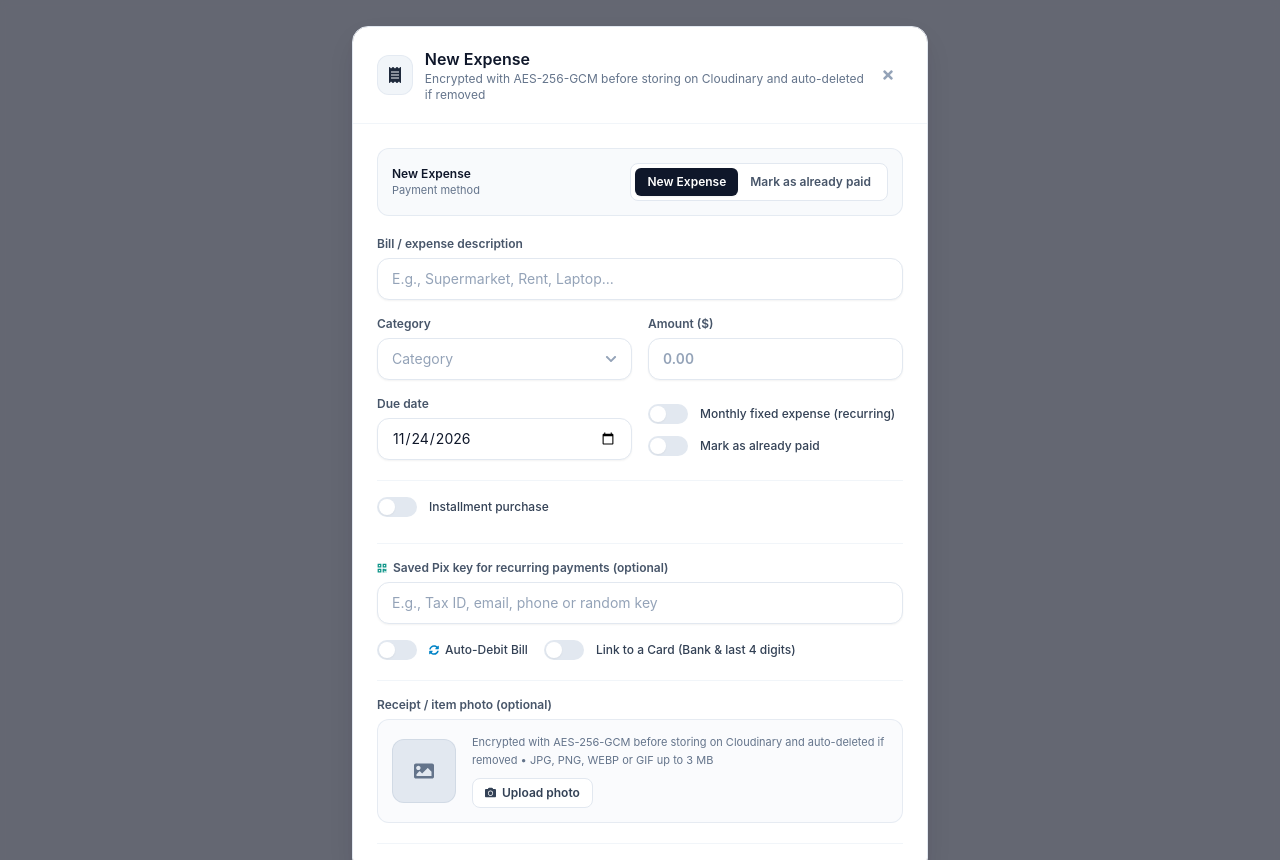
Scenario: Full i18n & country formatting localization › uses country-formatted monetary labels and placeholders in ExpenseModal
The width and height of the screenshot is (1280, 860).
Later steps or results of the test are not shown.
Check: the text "Amount ($)" is shown, box [648, 316, 714, 331]
Check: the field with placeholder "0.00" is shown, box [648, 338, 903, 380]
Click the checkbox with test id "expense-link-card-toggle": x=670, y=650 [544, 640, 796, 660]
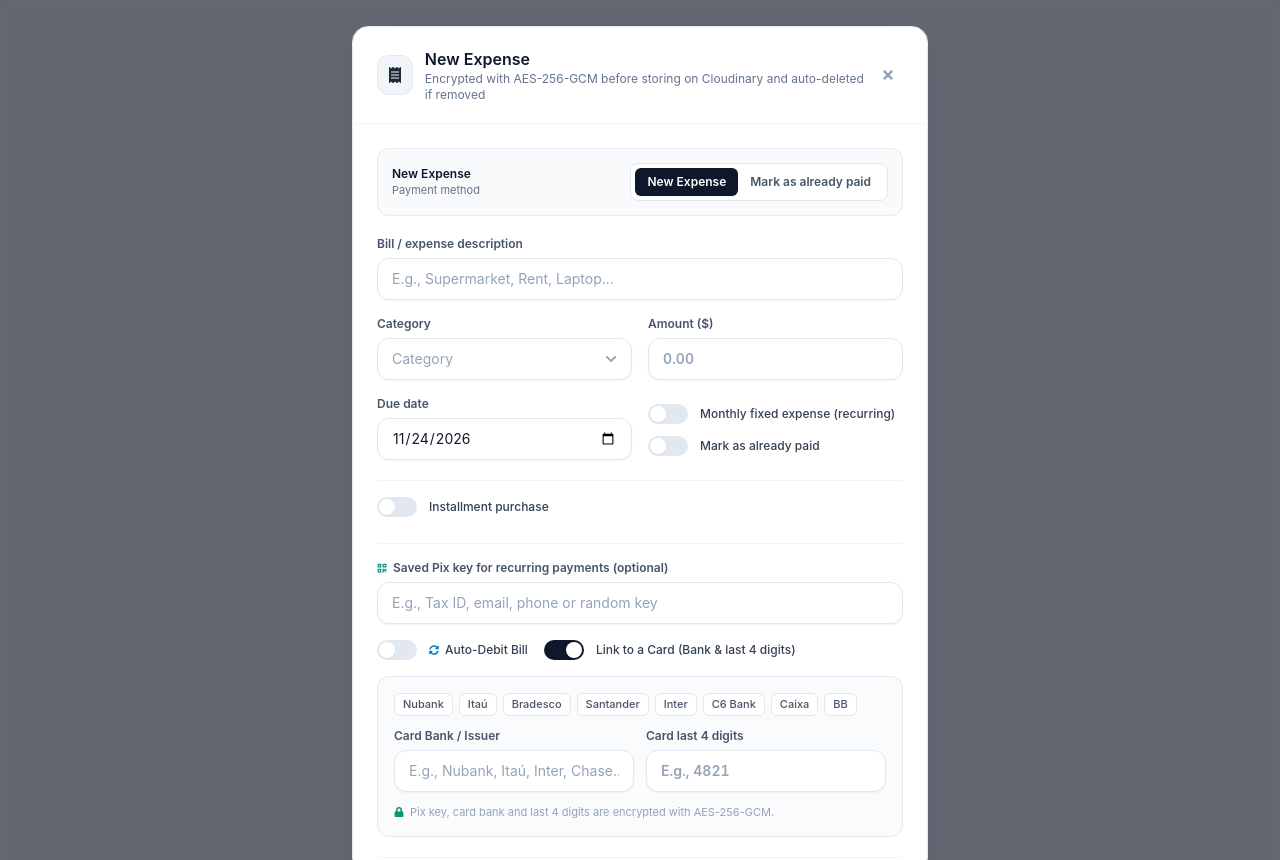
Check: the field with placeholder "E.g., 4821" is shown, box [646, 750, 886, 792]
